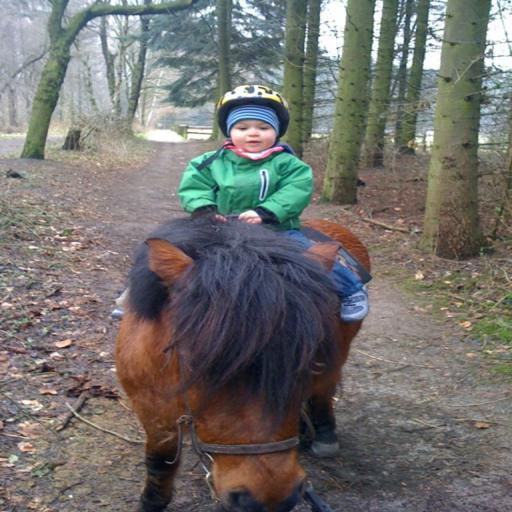horse: (112, 208, 376, 512)
